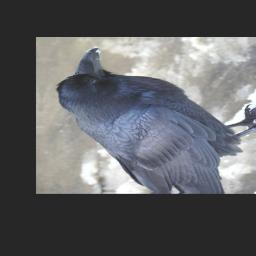Crow: (50, 47, 256, 193)
